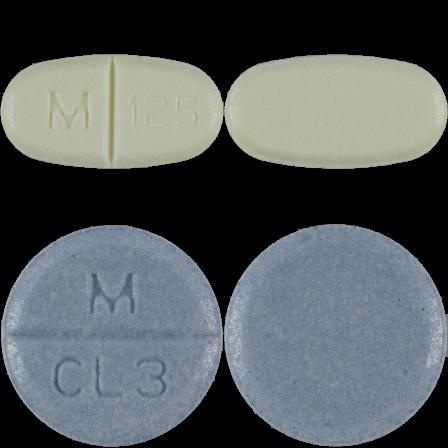0378-1125: (0, 0, 224, 224)
